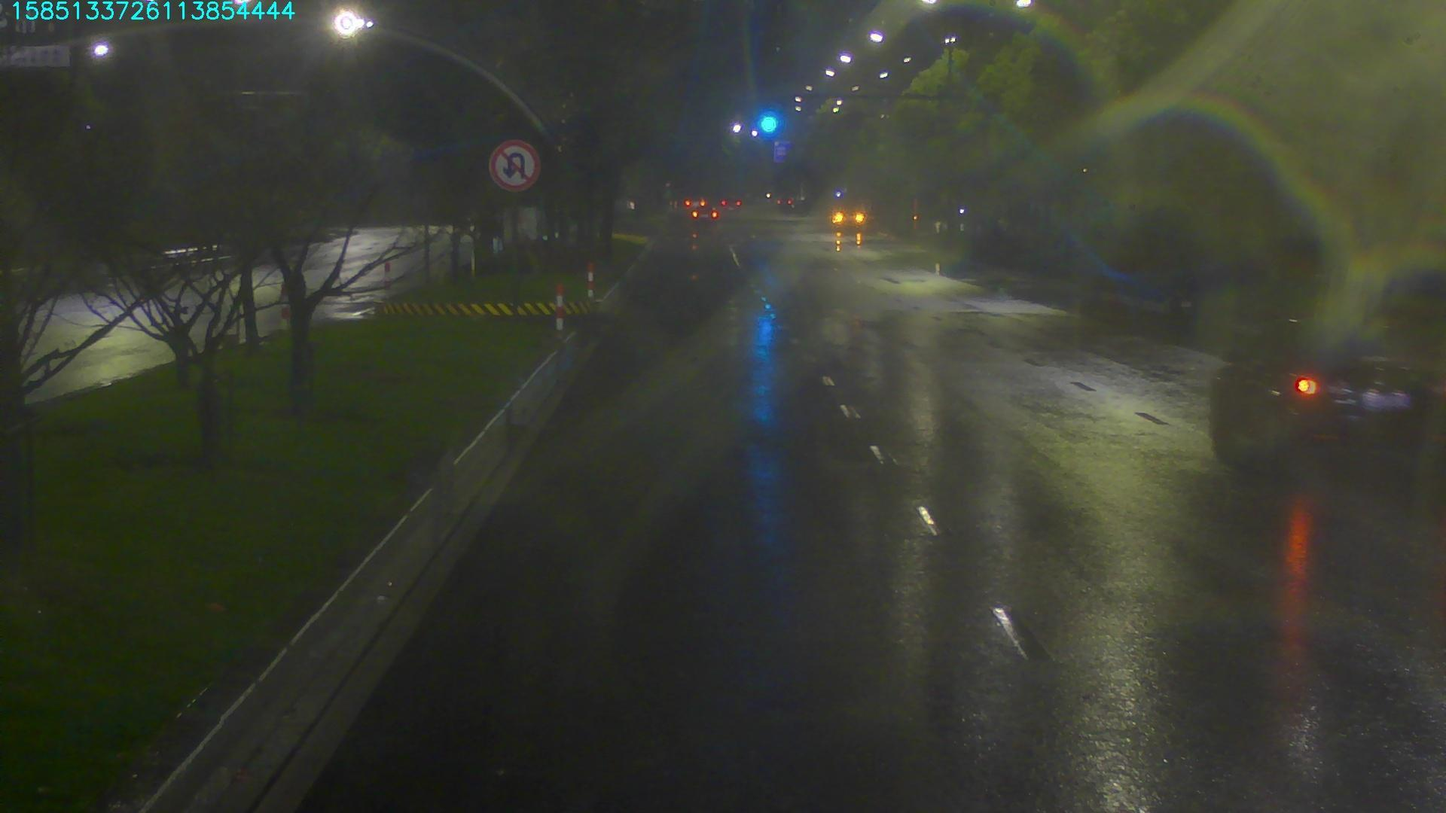green: (760, 107, 784, 131)
